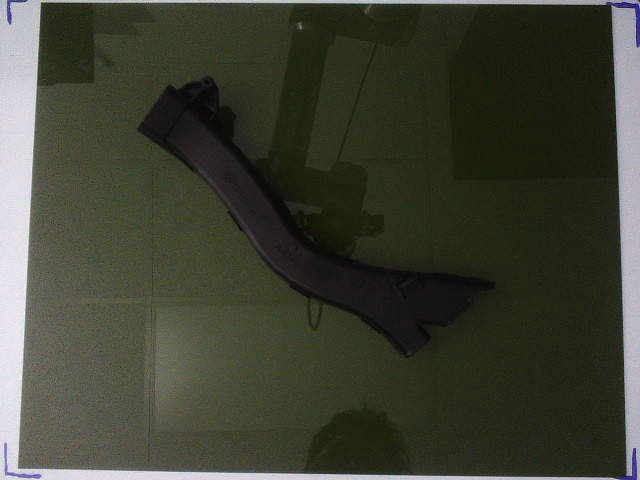887_A-Top: (139, 77, 495, 356)
